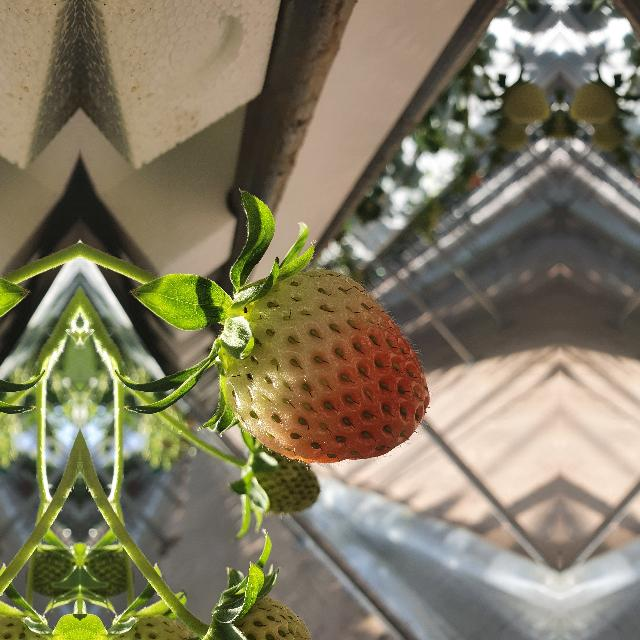Health_75: (225, 269, 429, 463)
